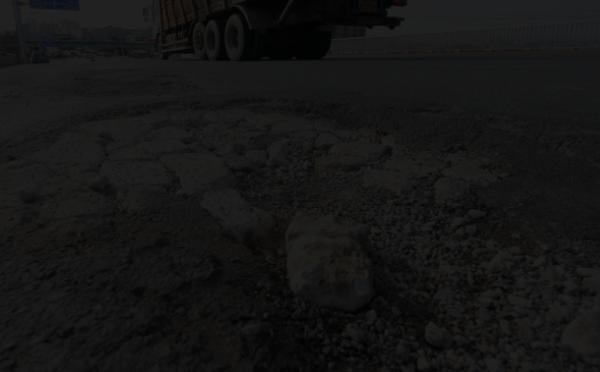pothole: (18, 68, 498, 312)
